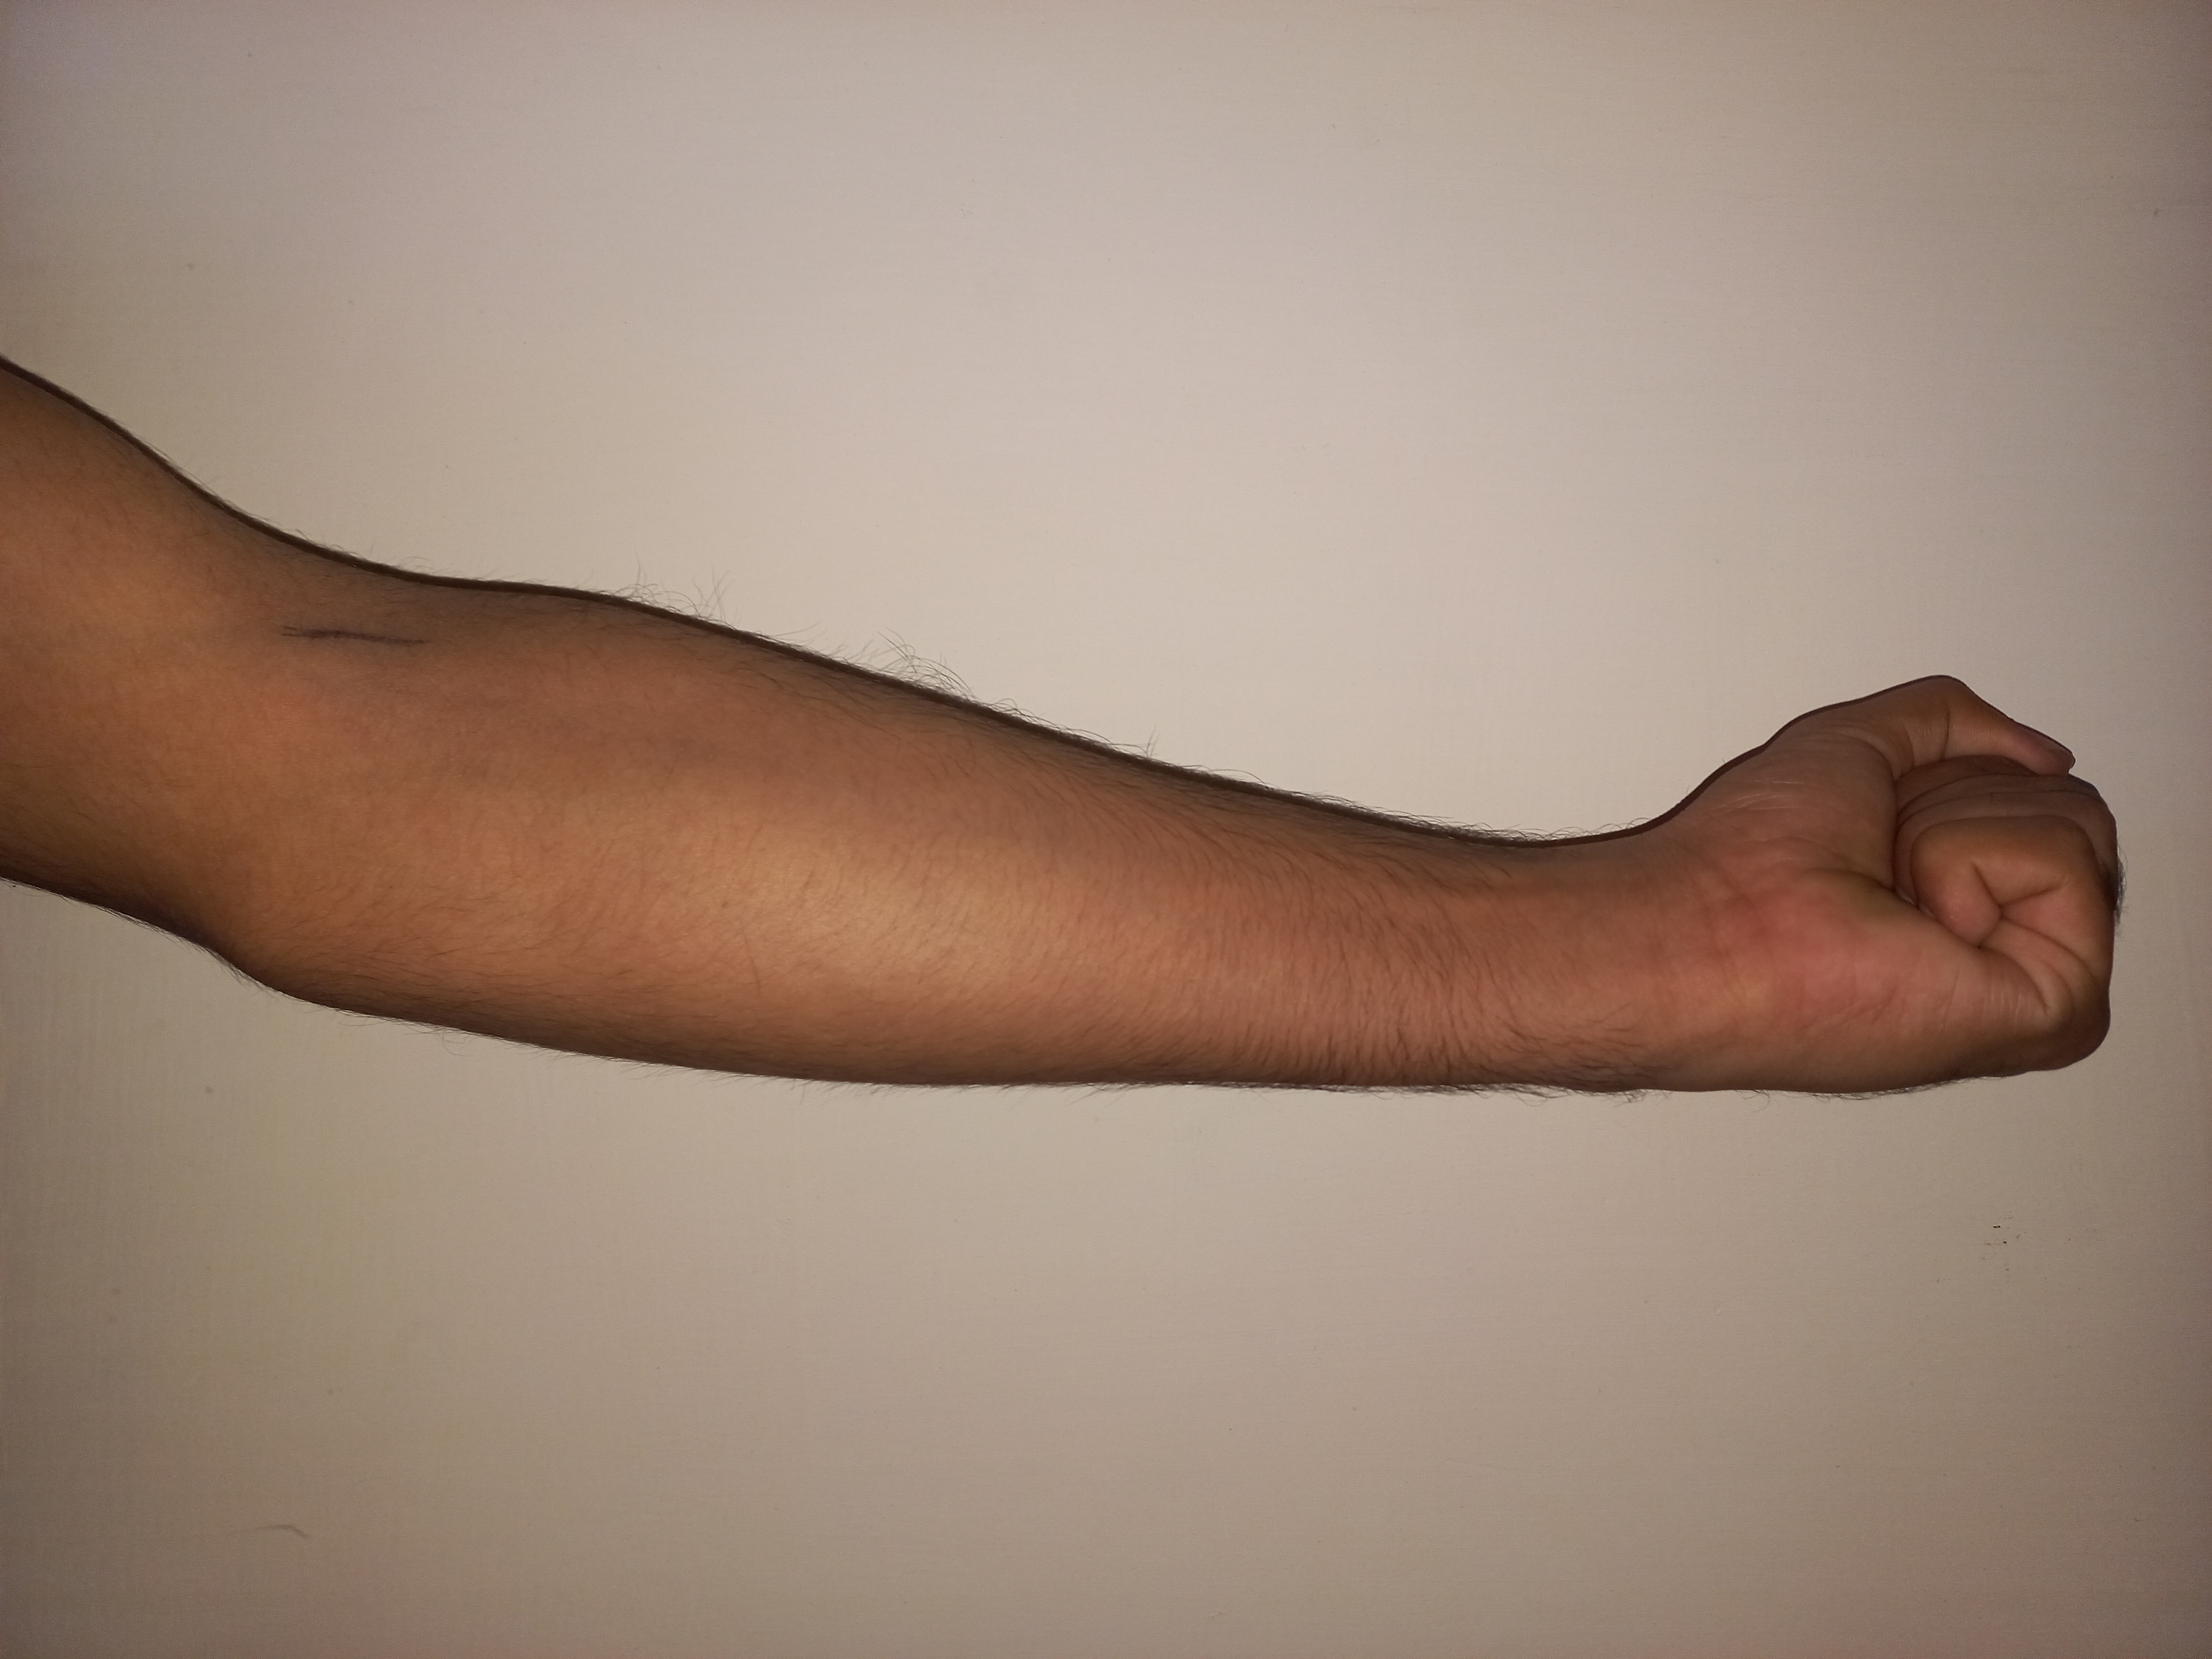vein: (261, 603, 453, 673)
